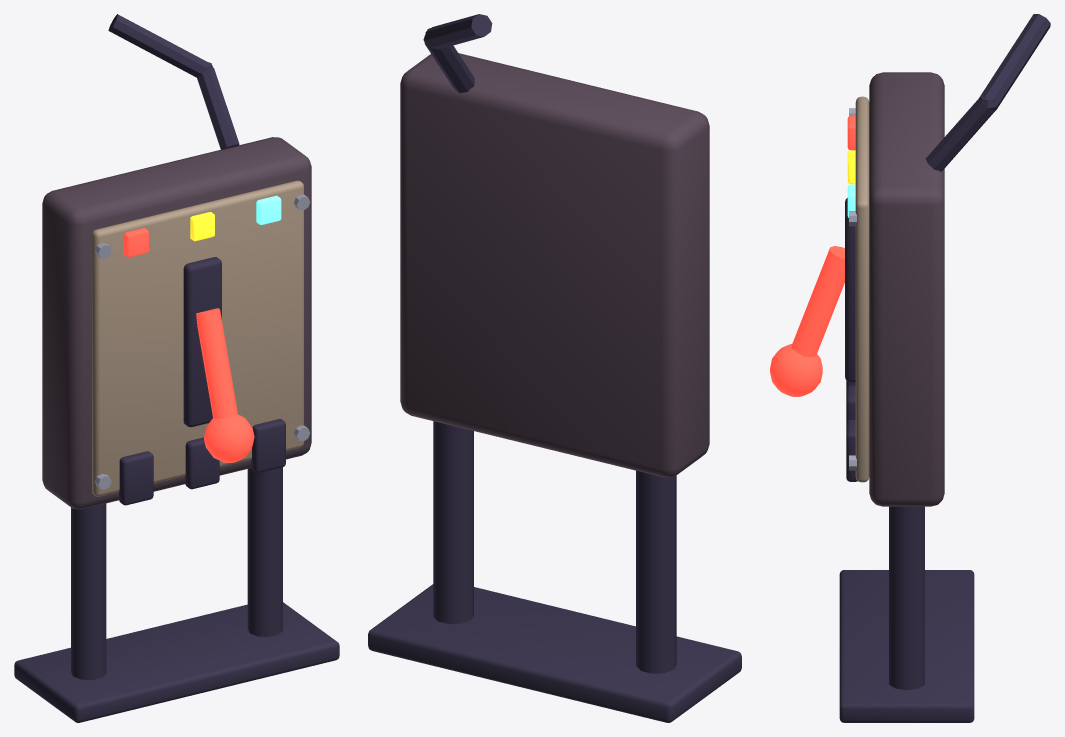
Rendered from power_switch.glb.
3 renders of one model, left to right at view 1: azimuth 30°, elevation 25°; view 2: azimuth 150°, elevation 25°; view 3: azimuth 270°, elevation 25°, orthographic. The views are drawn at different scales.
Parts seen in each view (by area): view 1: power_switch; view 2: power_switch; view 3: power_switch.
Boxes of the visible parts, box(x1,y1,x2,y2) form: power_switch: box(14, 14, 339, 722); power_switch: box(368, 14, 741, 722); power_switch: box(770, 14, 1050, 722).
Size of the model in its own units: 1.2 by 2.63 by 1.04.
